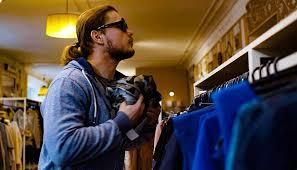shoplifting: (35, 46, 185, 158)
